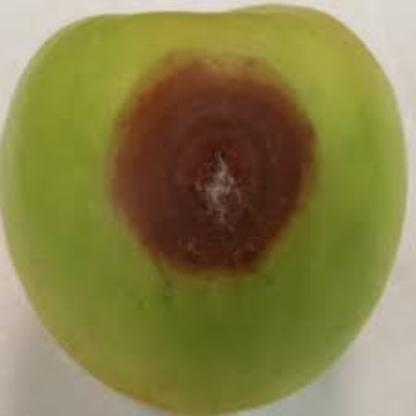defect: (97, 54, 321, 294)
